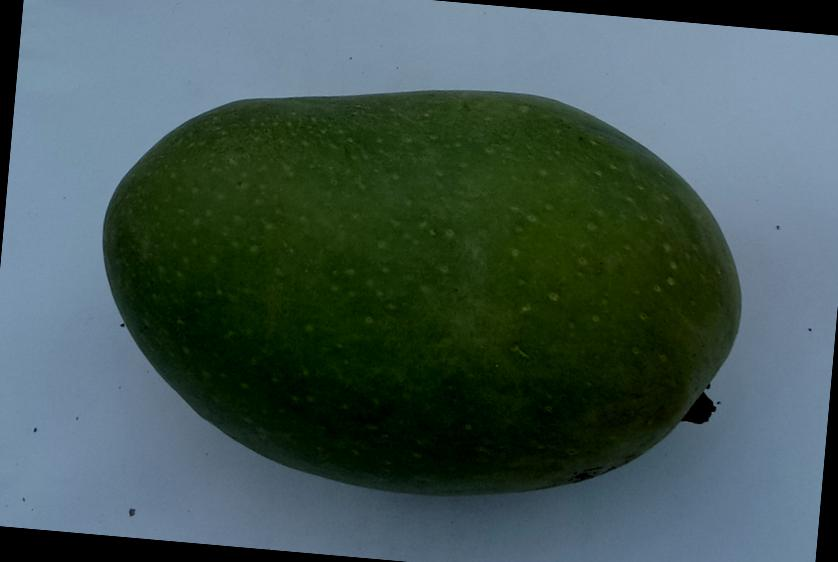Mango Unripe: (52, 23, 793, 550)
